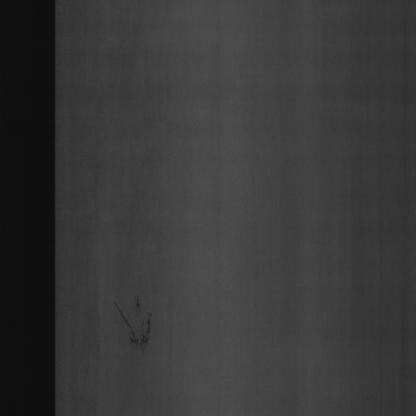water_spot: (116, 266, 158, 361)
